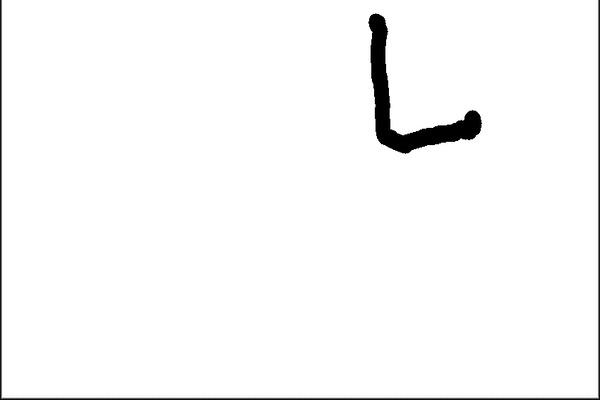L: (361, 8, 482, 154)
